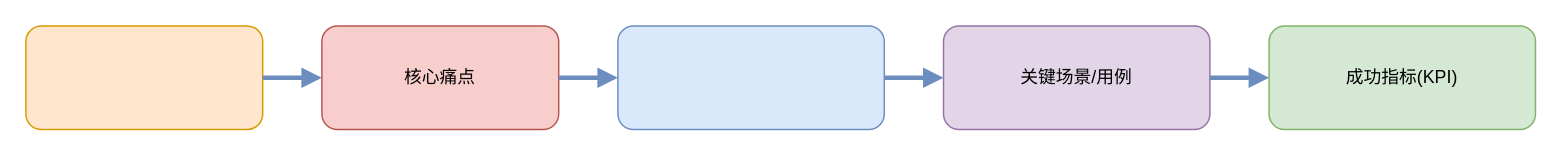
Image size: 1561x155. Some labels were removed from this diagram. The centre of each missing label's shape, as x and y in pixels:
"目标用户画像" goes at [143,77].
"解决方案亮点" goes at [750,77].
